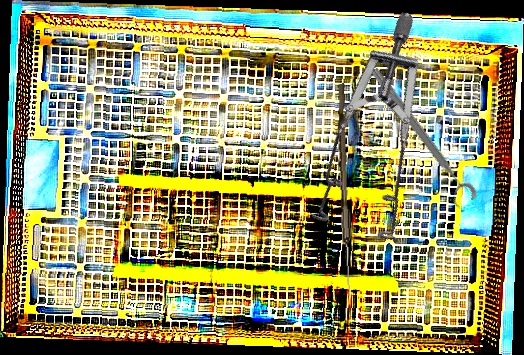Fixation Ring: (359, 64, 480, 211)
Speculum: (251, 8, 518, 273)
Surgical Spoon: (333, 83, 356, 297)
